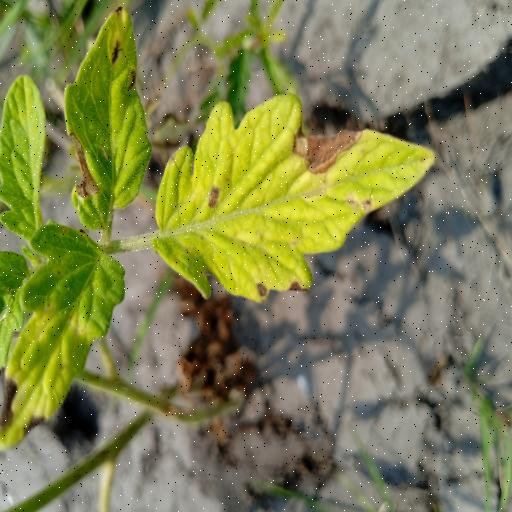Tomato_Brown_Spots: (153, 94, 438, 302), (0, 222, 131, 455), (62, 0, 155, 237)
